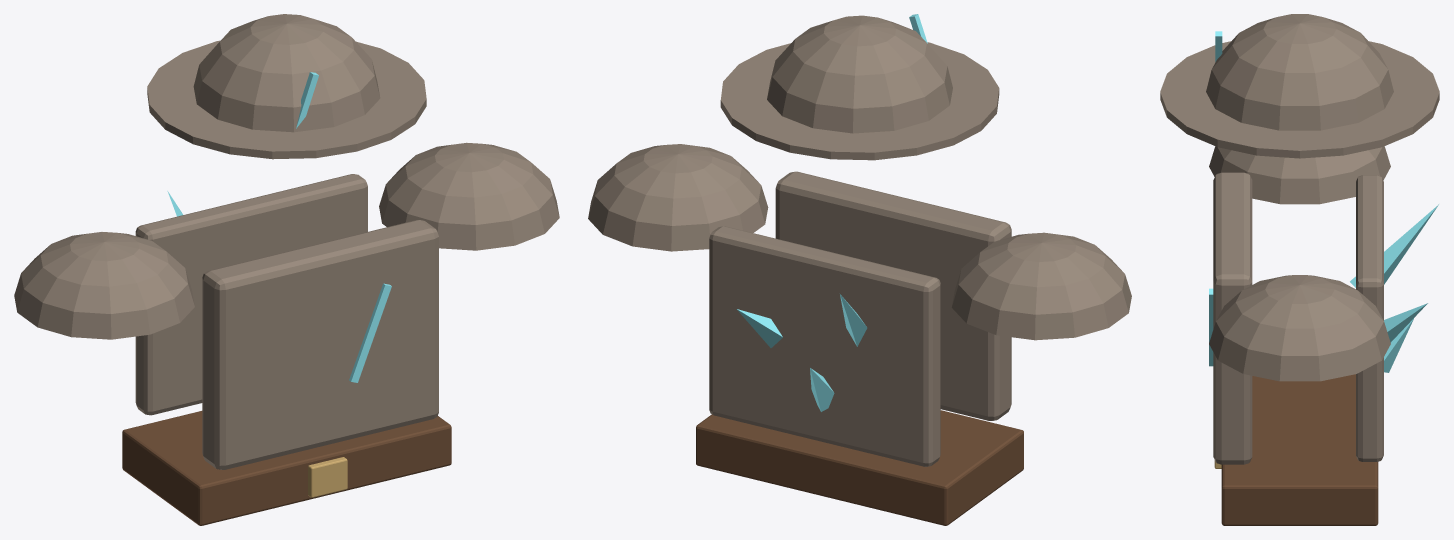
The model's file is Homme_Armes_Equipement.fbx.
The picture shows the model from 3 angles, left to right: view 1: azimuth 30°, elevation 25°; view 2: azimuth 150°, elevation 25°; view 3: azimuth 270°, elevation 25°; orthographic projection.
Visible parts, largest first — view 1: UpperTorso__Plastron__Fer.001, UpperTorso__Dossiere__Fer.001, LowerTorso__Ceinture__Cuir.001, Head__Casque__Fer.001, RightUpperArm__Epauliere__Fer.001, LeftUpperArm__Epauliere__Fer.001, Head__Bord__Fer.001, LowerTorso__Boucle__Laiton.001, UpperTorso__FissurePlastron__Noyau.001; view 2: UpperTorso__Dossiere__Fer.001, UpperTorso__Plastron__Fer.001, LowerTorso__Ceinture__Cuir.001, Head__Casque__Fer.001, RightUpperArm__Epauliere__Fer.001, LeftUpperArm__Epauliere__Fer.001, Head__Bord__Fer.001, UpperTorso__Eclat2__Noyau.002, UpperTorso__Eclat3__Noyau.001, UpperTorso__Eclat1__Noyau.001; view 3: LowerTorso__Ceinture__Cuir.001, Head__Casque__Fer.001, LeftUpperArm__Epauliere__Fer.001, Head__Bord__Fer.001, UpperTorso__Plastron__Fer.001, RightUpperArm__Epauliere__Fer.001, UpperTorso__Dossiere__Fer.001, UpperTorso__Eclat1__Noyau.001, UpperTorso__Eclat2__Noyau.002, UpperTorso__Eclat3__Noyau.001, UpperTorso__FissurePlastron__Noyau.001.
Boxes of the visible parts, x1,y1,x2,y2 form: UpperTorso__Plastron__Fer.001: (202, 220, 438, 469); UpperTorso__Dossiere__Fer.001: (135, 174, 367, 415); LowerTorso__Ceinture__Cuir.001: (122, 411, 451, 525); Head__Casque__Fer.001: (193, 14, 380, 132); RightUpperArm__Epauliere__Fer.001: (14, 232, 194, 339); LeftUpperArm__Epauliere__Fer.001: (379, 142, 559, 250); Head__Bord__Fer.001: (147, 40, 426, 159); LowerTorso__Boucle__Laiton.001: (308, 457, 347, 497); UpperTorso__FissurePlastron__Noyau.001: (349, 283, 391, 382); UpperTorso__Dossiere__Fer.001: (709, 226, 940, 466); UpperTorso__Plastron__Fer.001: (775, 171, 1011, 420); LowerTorso__Ceinture__Cuir.001: (696, 410, 1023, 525); Head__Casque__Fer.001: (767, 15, 952, 133); RightUpperArm__Epauliere__Fer.001: (951, 232, 1131, 340); LeftUpperArm__Epauliere__Fer.001: (588, 144, 768, 251); Head__Bord__Fer.001: (720, 42, 999, 160); UpperTorso__Eclat2__Noyau.002: (736, 309, 782, 347); UpperTorso__Eclat3__Noyau.001: (810, 368, 834, 411); UpperTorso__Eclat1__Noyau.001: (840, 294, 867, 346); LowerTorso__Ceinture__Cuir.001: (1221, 374, 1378, 525); Head__Casque__Fer.001: (1206, 14, 1393, 130); LeftUpperArm__Epauliere__Fer.001: (1209, 275, 1390, 381); Head__Bord__Fer.001: (1160, 41, 1439, 158); UpperTorso__Plastron__Fer.001: (1213, 172, 1252, 464); RightUpperArm__Epauliere__Fer.001: (1209, 146, 1390, 204); UpperTorso__Dossiere__Fer.001: (1356, 175, 1383, 461); UpperTorso__Eclat1__Noyau.001: (1350, 204, 1438, 287); UpperTorso__Eclat2__Noyau.002: (1384, 303, 1427, 342); UpperTorso__Eclat3__Noyau.001: (1384, 318, 1413, 372); UpperTorso__FissurePlastron__Noyau.001: (1209, 288, 1213, 366).
Bounding box in the file's own units: 427 × 349 × 200.
